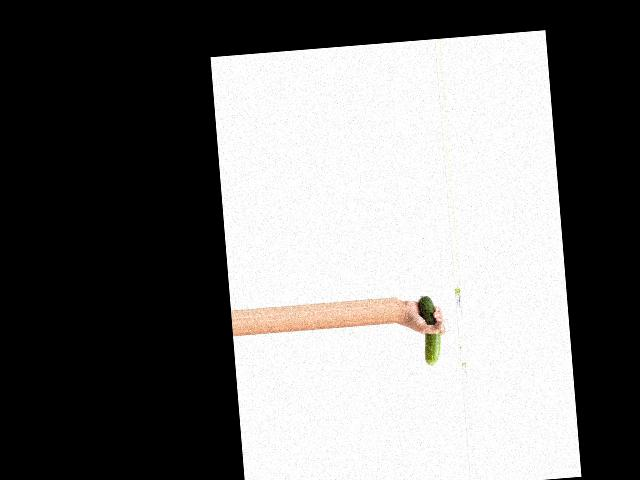cucumber: (418, 295, 443, 366)
